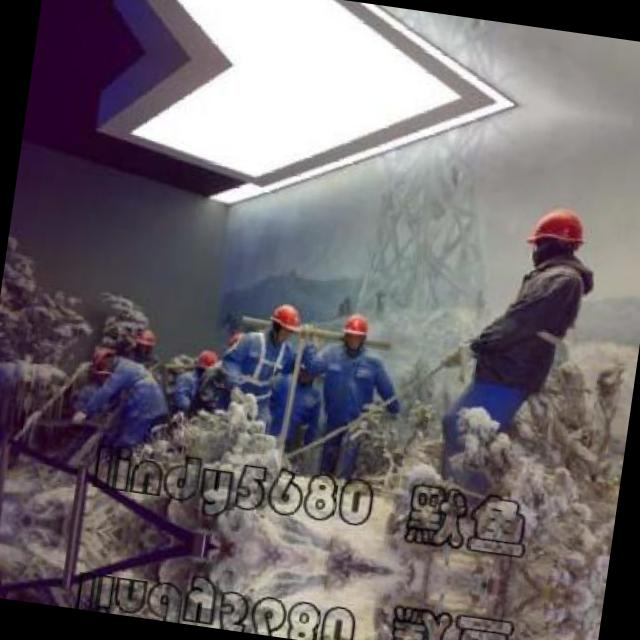helmet: (522, 200, 590, 272), (267, 298, 304, 346), (338, 308, 374, 354), (188, 342, 224, 387), (84, 342, 126, 377), (128, 322, 160, 358)
